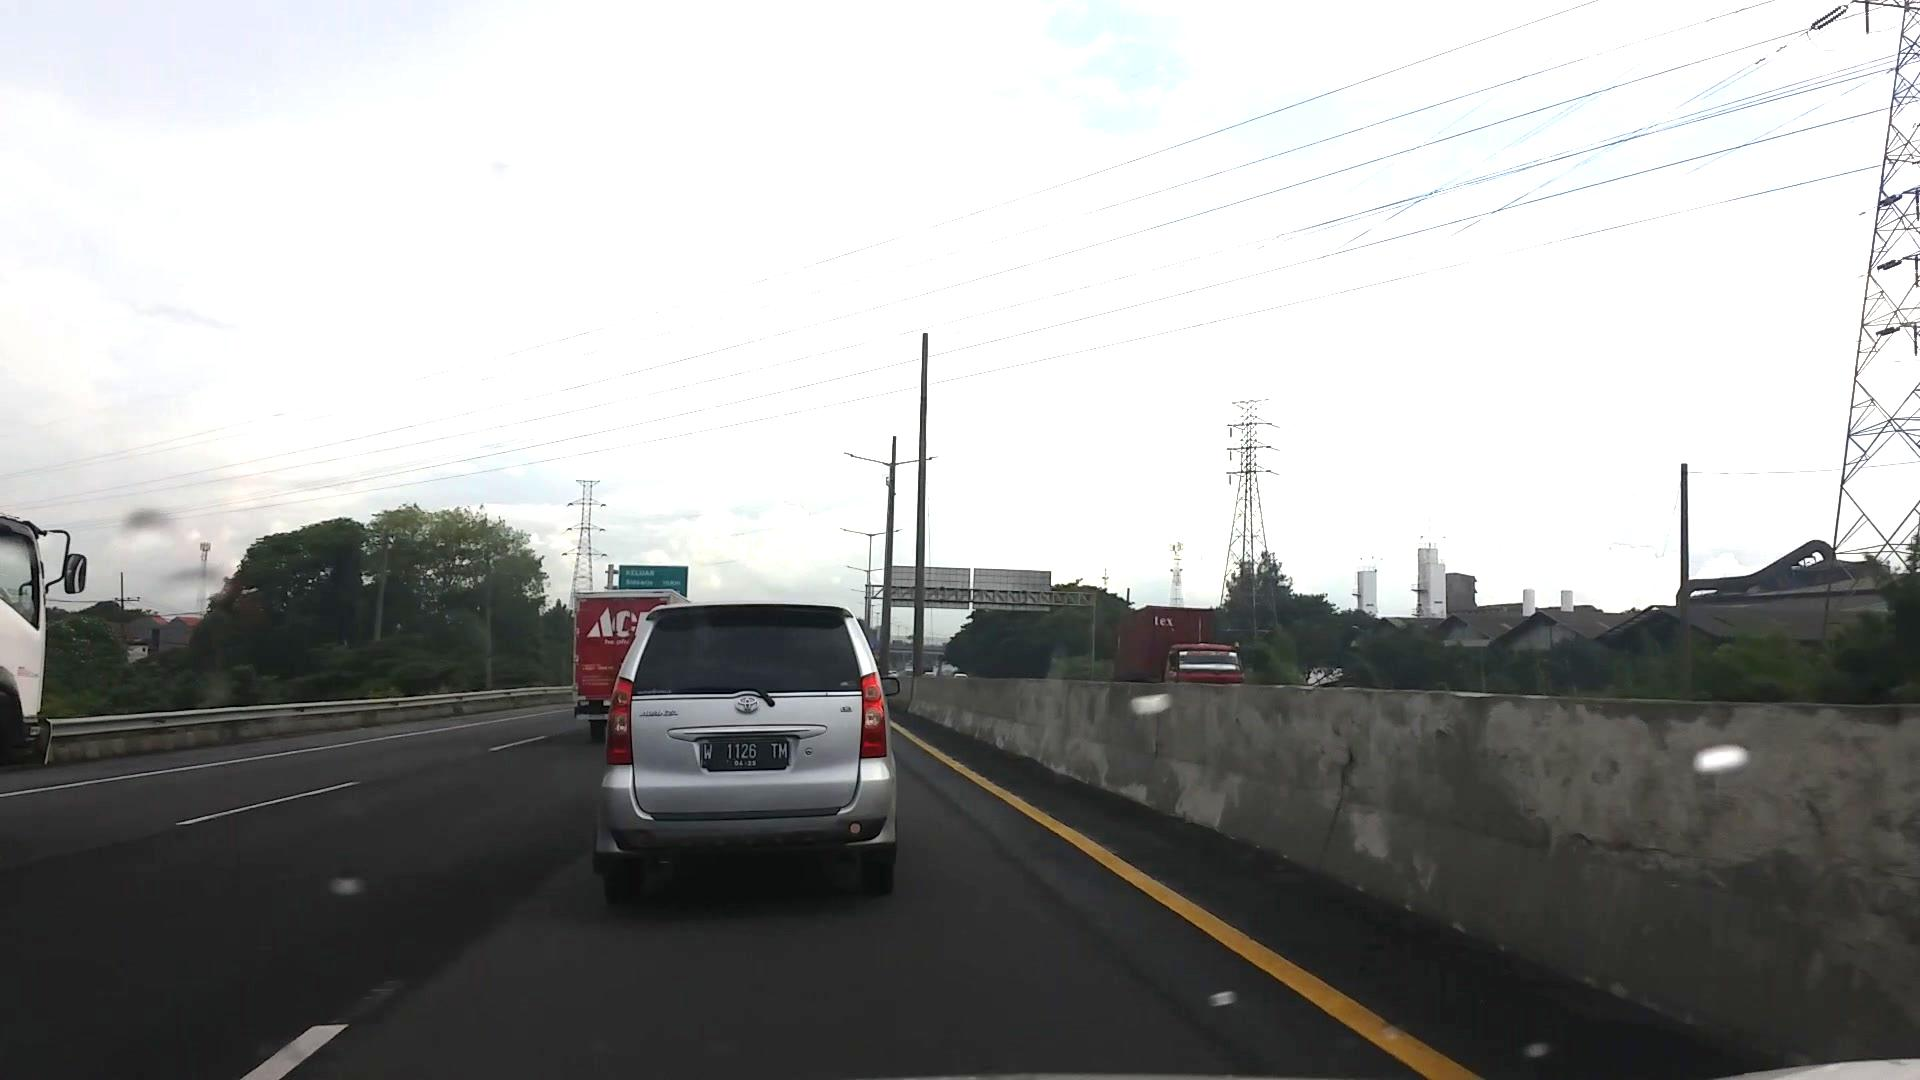plate_positive: (699, 740, 790, 771)
